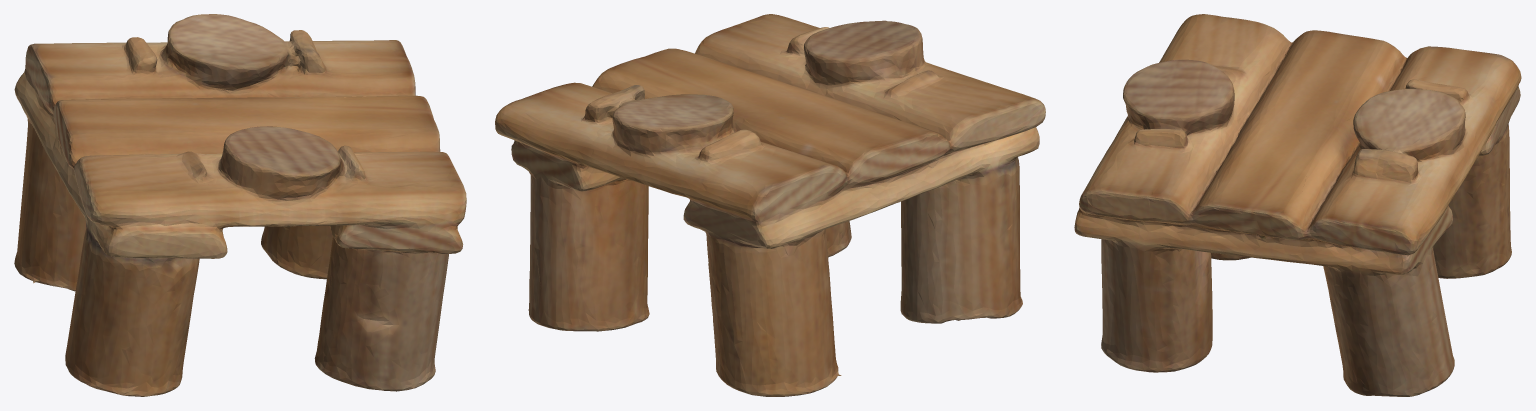
3 renders of one model, left to right at view 1: azimuth 30°, elevation 25°; view 2: azimuth 150°, elevation 25°; view 3: azimuth 270°, elevation 25°, orthographic. The views are drawn at different scales.
Visible parts, largest first — view 1: _Holyspielyeug_17k_2k; view 2: _Holyspielyeug_17k_2k; view 3: _Holyspielyeug_17k_2k.
Boxes of the visible parts, x1=… form: _Holyspielyeug_17k_2k: x1=14, y1=14, x2=466, y2=396; _Holyspielyeug_17k_2k: x1=495, y1=14, x2=1045, y2=396; _Holyspielyeug_17k_2k: x1=1074, y1=14, x2=1521, y2=396.
Size of the model in its own units: 0.0682 by 0.0378 by 0.0659.
Materials: 1 (1 with a texture image).
